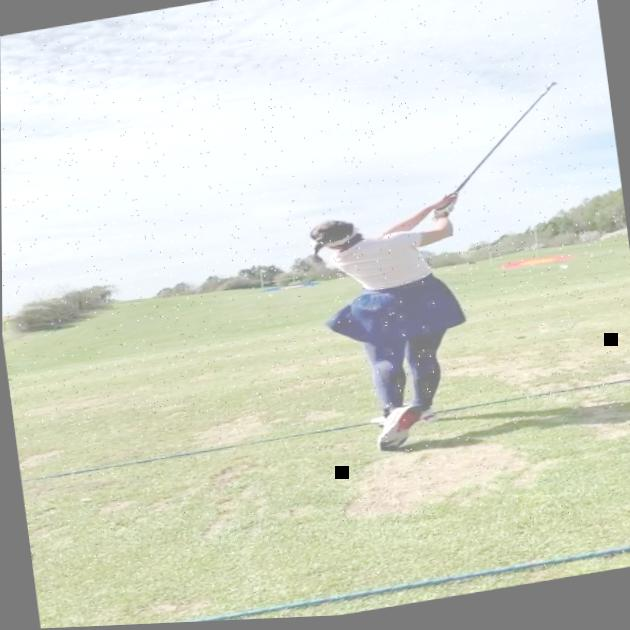ClubHead: (542, 87, 560, 97)
